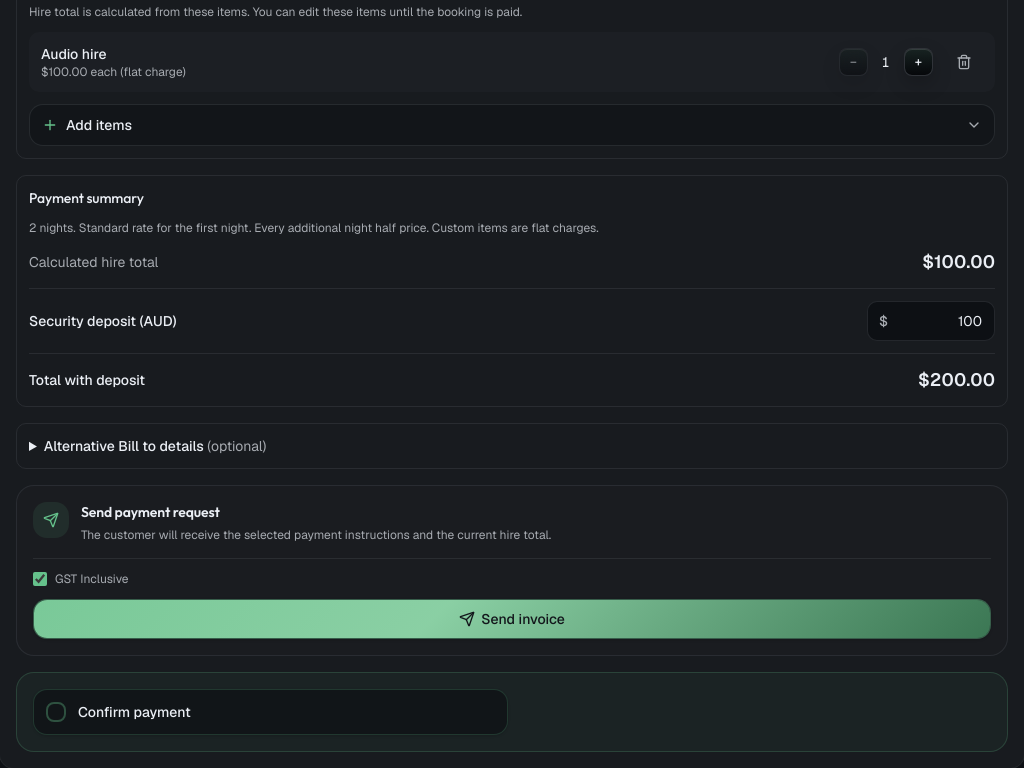
Test case: AdminPaymentPanel › updates a pending invoice on the same booking and reference
(page scrolled)
Click the checkbox named "GST-inclusive hire cost": (40,578) [33,572,47,586]
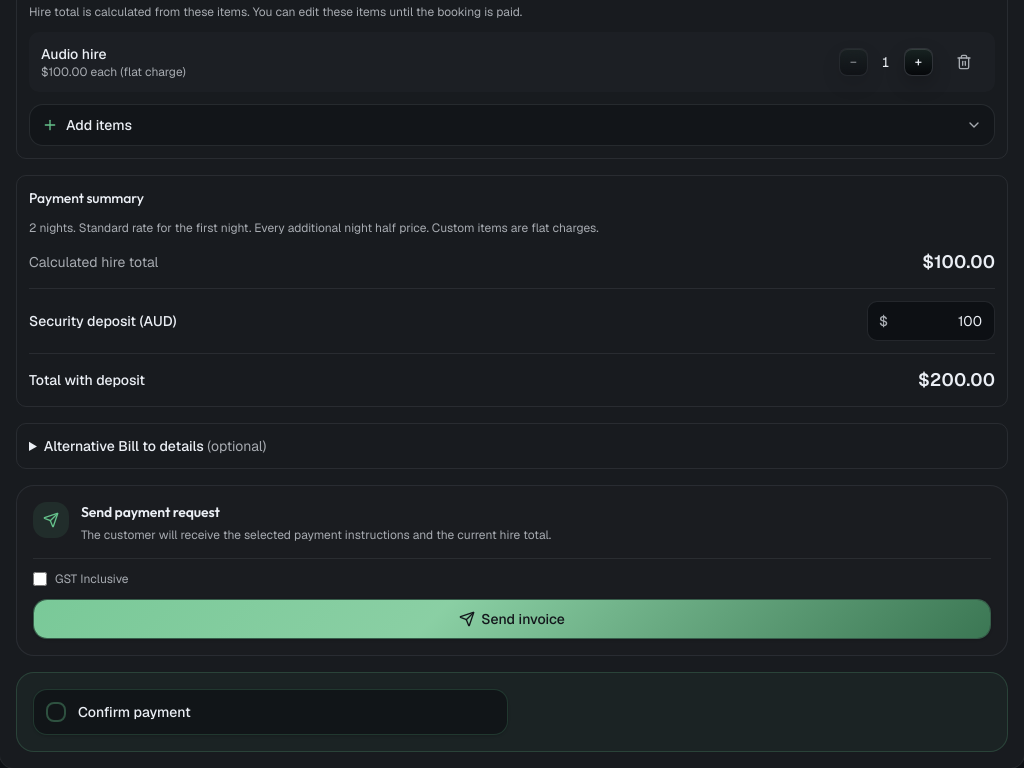
Click the button "Send invoice": (512,618) [33,598,991,638]
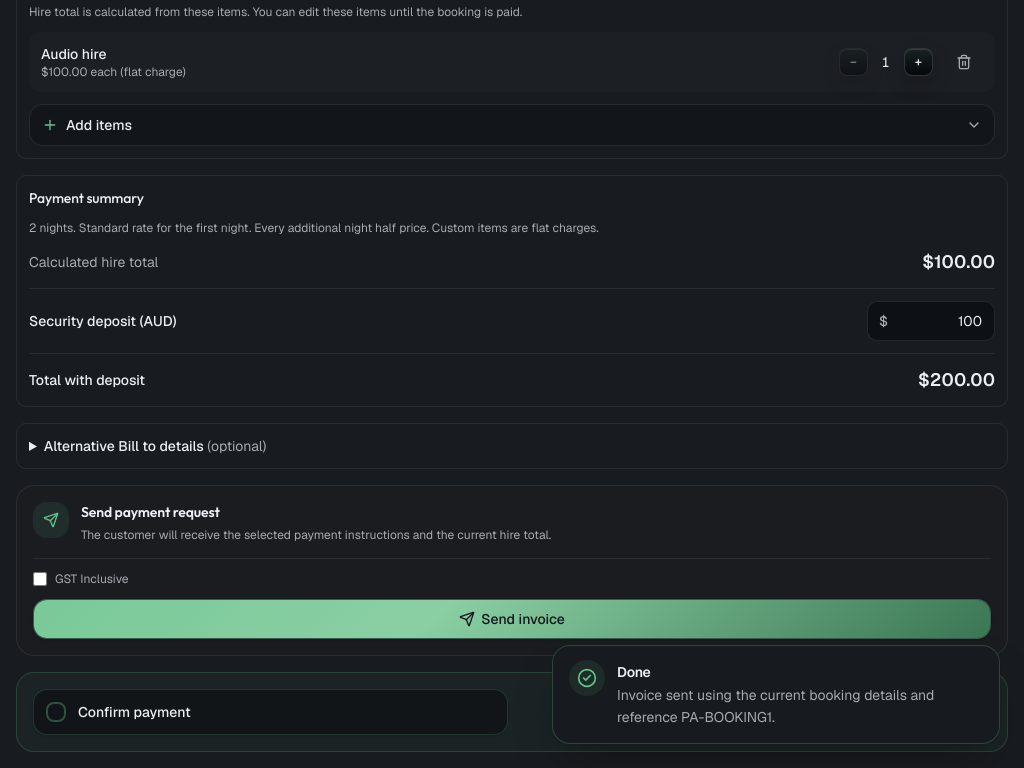
expect the text "Invoice sent using the current booking details and reference PA-BOOKING1." is shown: met, box [617,684,983,729]
